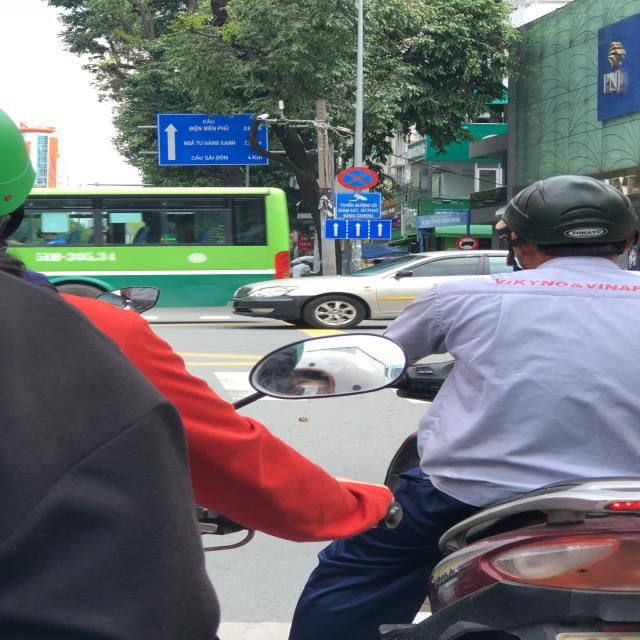Bien bao cam dung xe va do xe: (334, 162, 379, 190)
